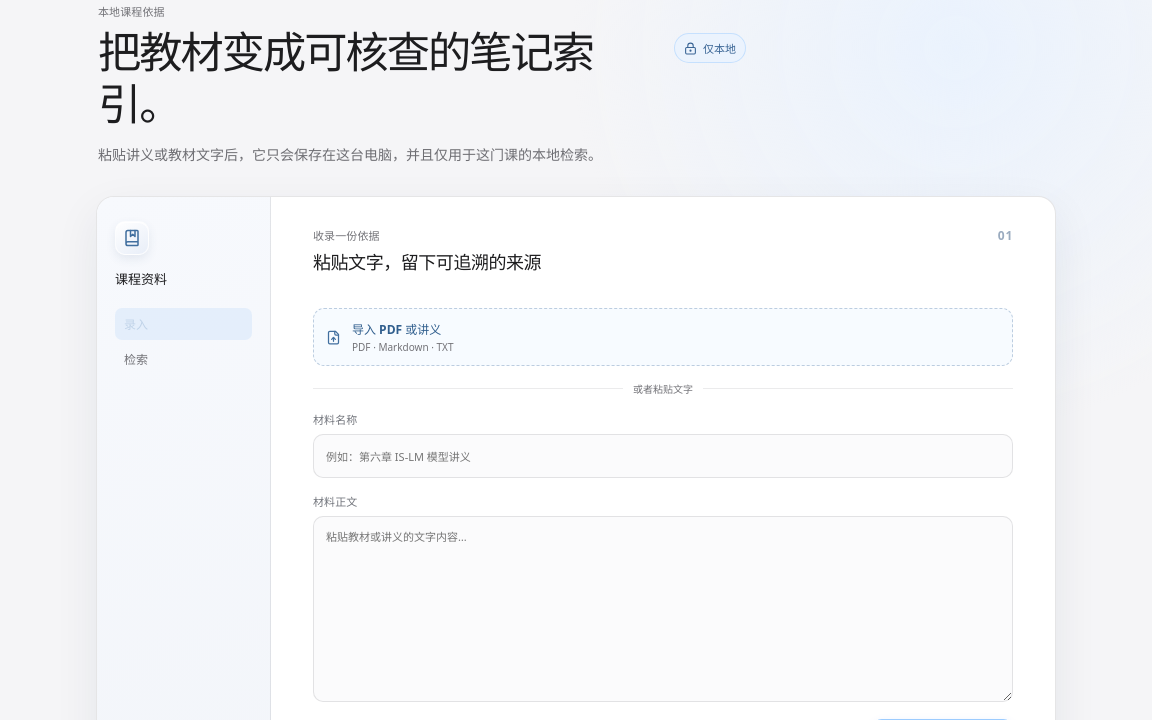
stores pasted course material locally before making it searchable
The image size is (1152, 720).
Type "IS-LM 讲义.md" into the field labelled "材料名称". click: [663, 456]
box: [313,434,1013,478]
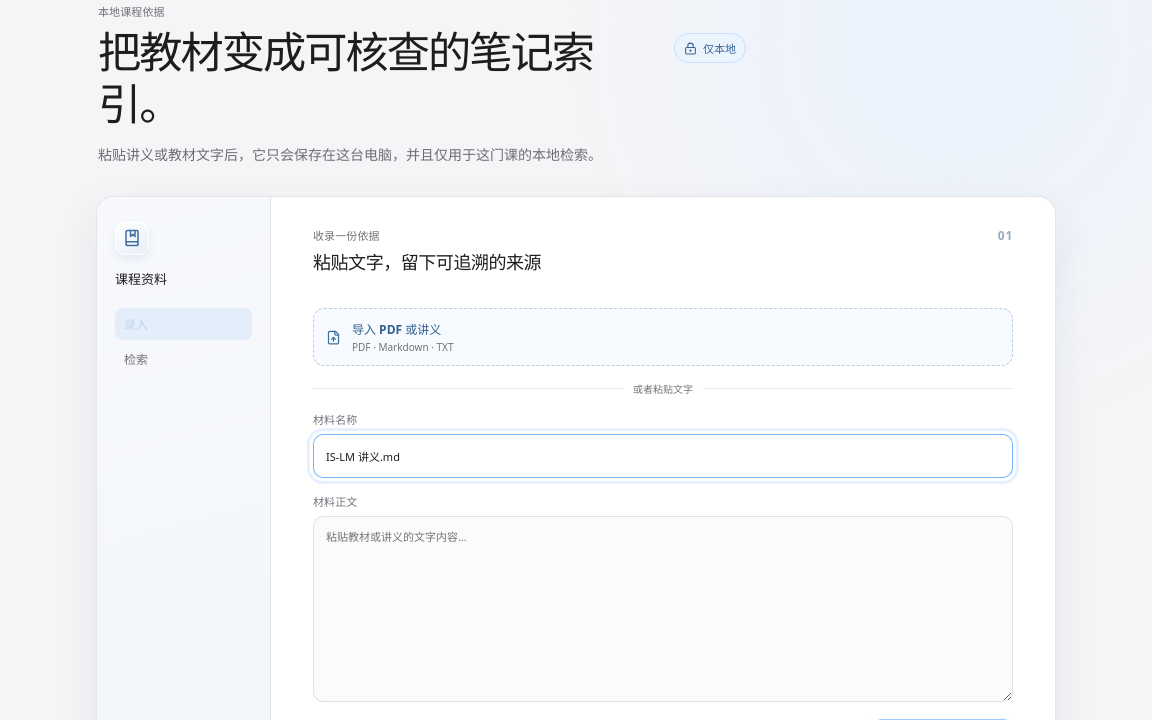
Type "货币供给增加会使 LM 曲线向右移动。" into the text box labelled "材料正文". click: [663, 610]
box: [313,516,1013,702]
(page scrolled)
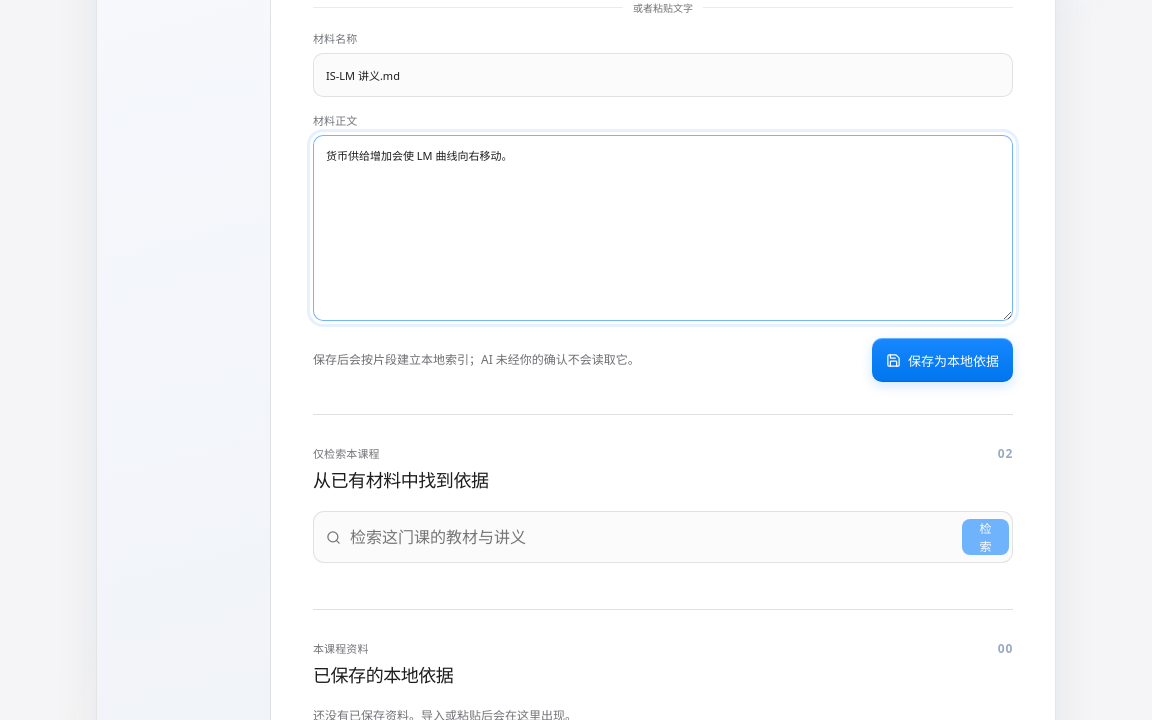
Click the button "保存为本地依据". click: [942, 360]
box: [872,338,1013,382]
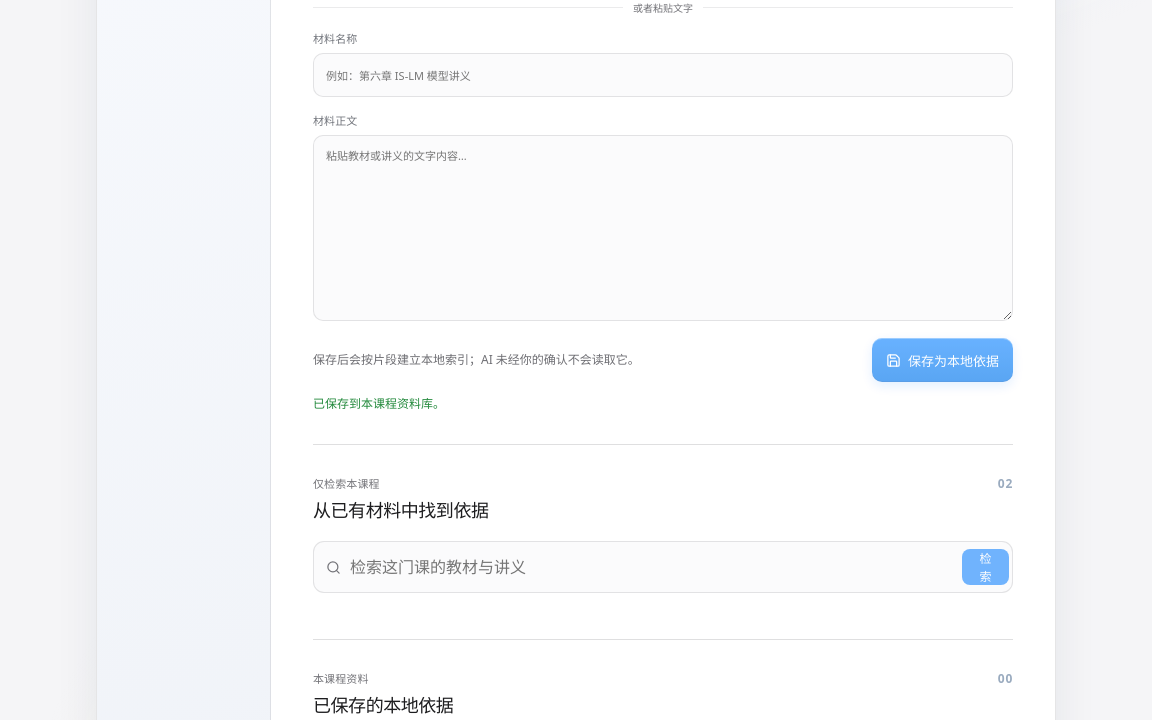
Result: the text "已保存到本课程资料库。" is shown at [313,396,445,412]
